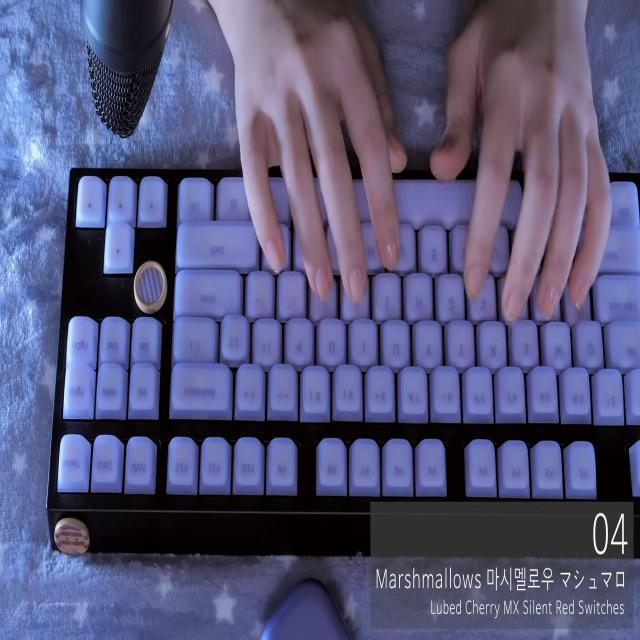keyboard-with-hands: (47, 168, 640, 515)
